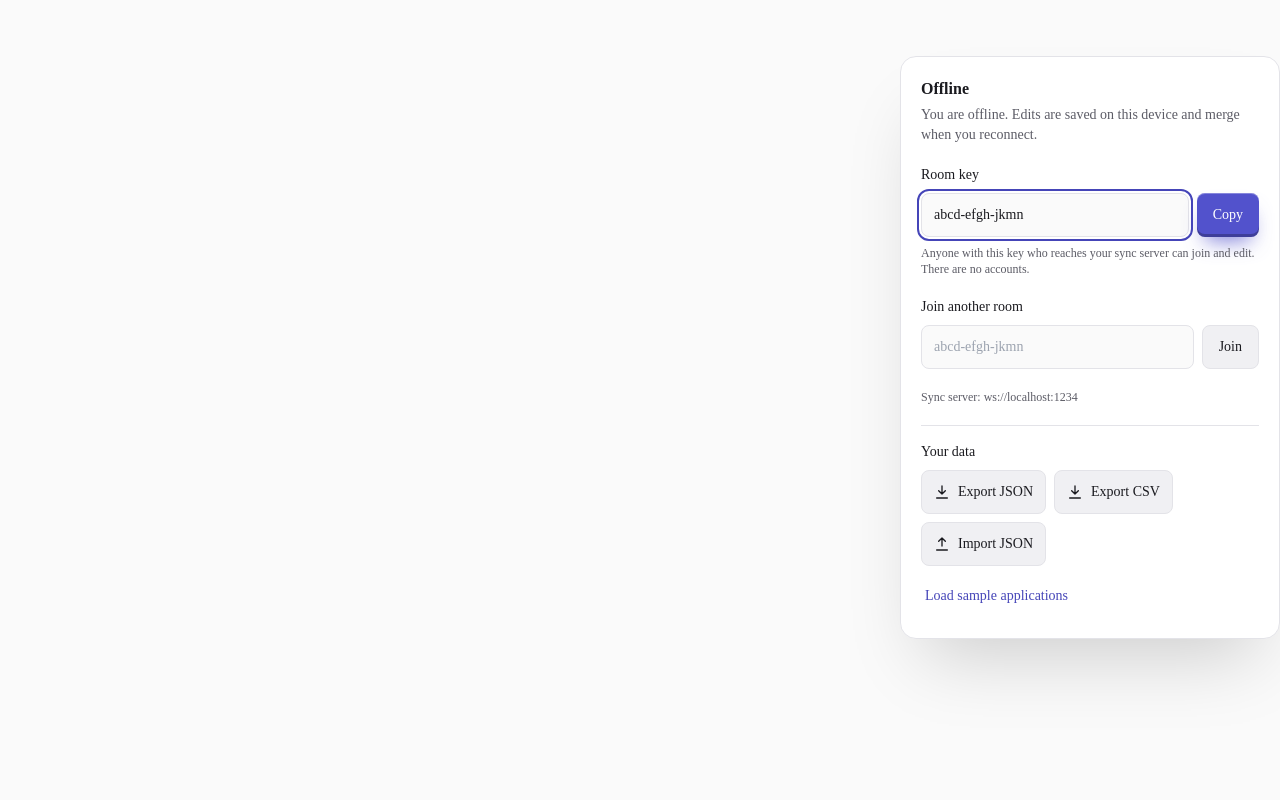
SyncPanel › explains the current status and rejects a malformed room key
This screenshot has width=1280, height=800.
Check: the heading "Offline" is shown, box top-left (921, 80), bottom-right (969, 97)
Check: the text "merge when you reconnect" is shown, box top-left (921, 107), bottom-right (1240, 142)
Type "!!" into the field labelled "Join another room" at point(1057, 347), box top-left (921, 325), bottom-right (1194, 369)
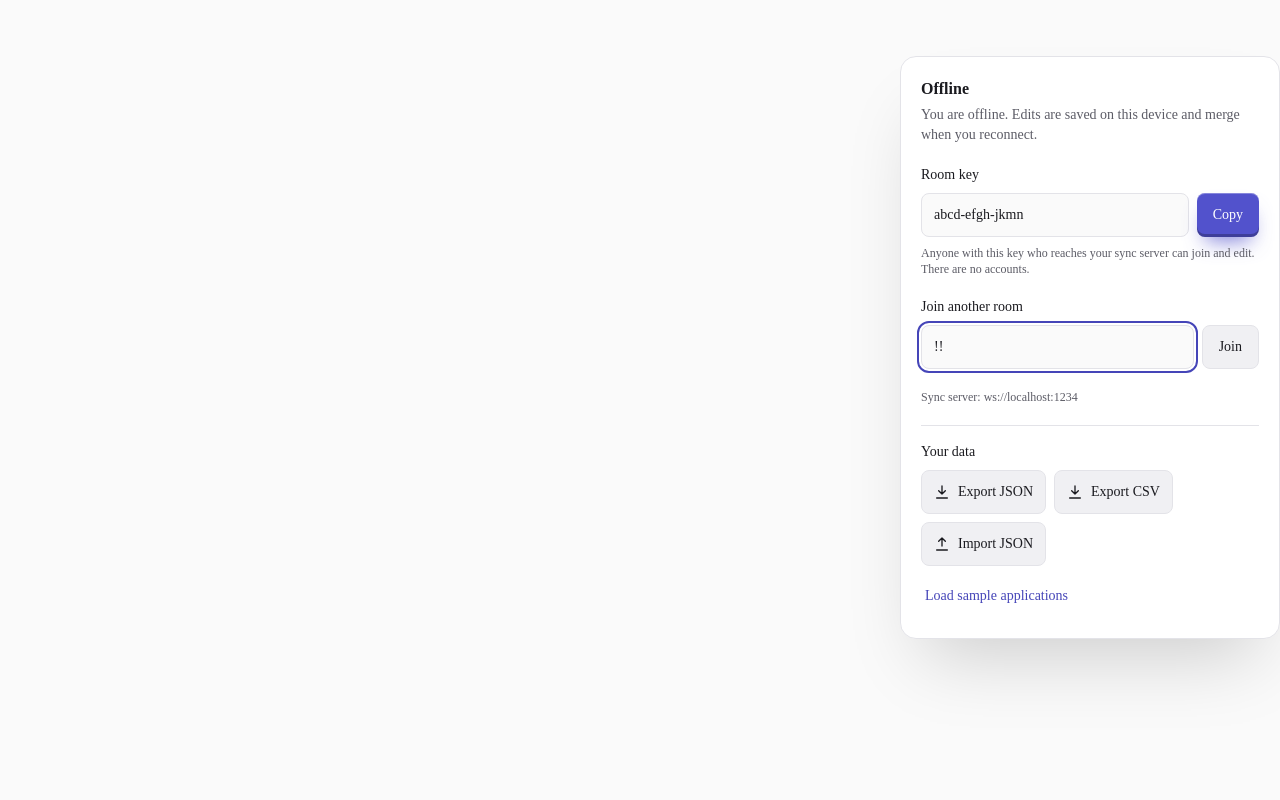
Click the button "Join" at point(1230, 347), box top-left (1202, 325), bottom-right (1259, 369)
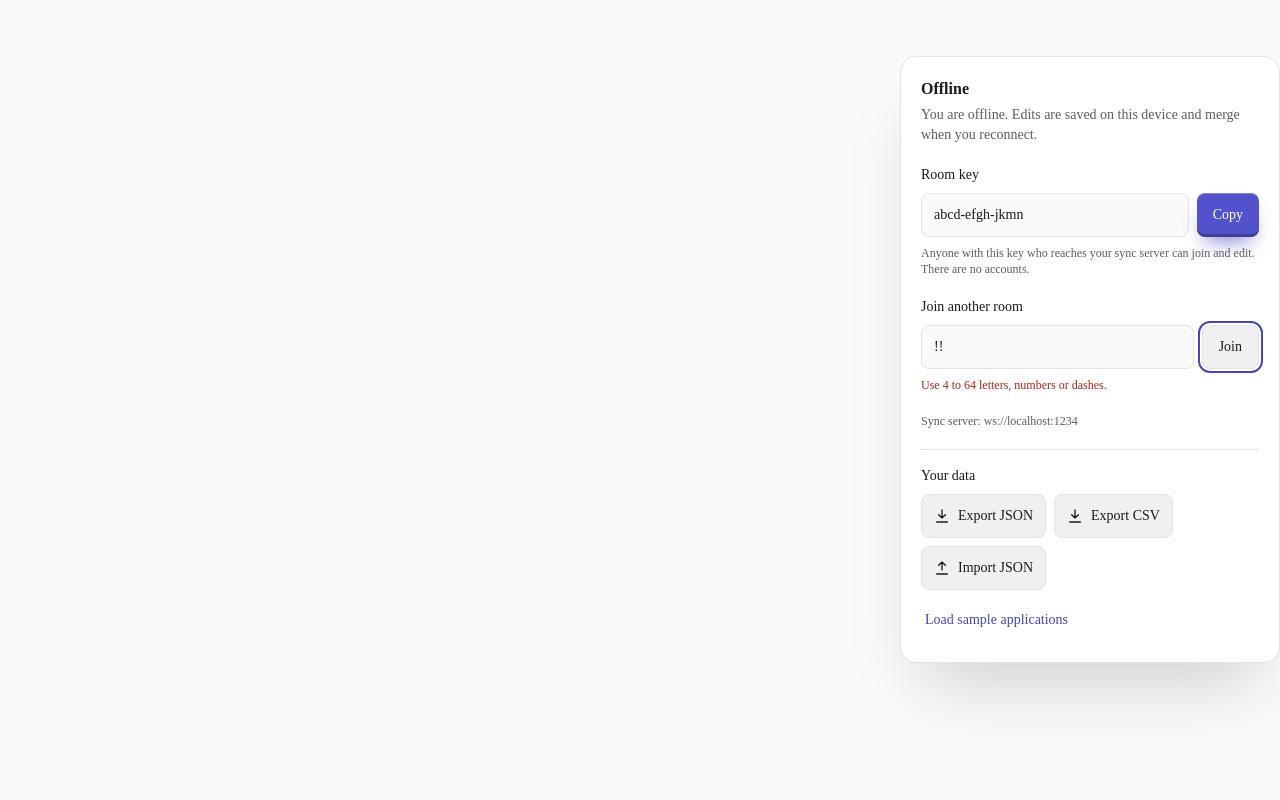
Check: the text "Use 4 to 64 letters, numbers or dashes." is shown, box top-left (921, 378), bottom-right (1107, 392)
